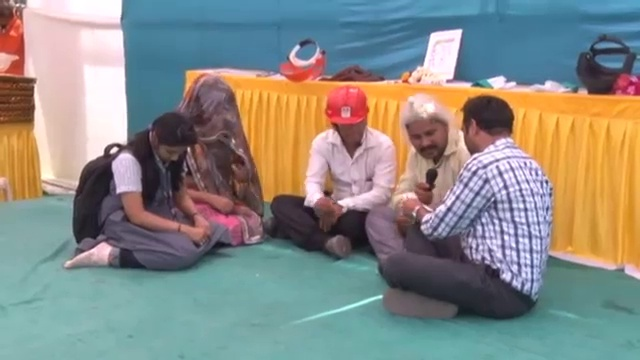helmet: (322, 86, 376, 125), (0, 48, 18, 77)
helmet_off: (456, 94, 519, 158), (182, 76, 241, 144), (399, 96, 454, 161), (142, 108, 197, 165), (0, 1, 19, 27)
helmet_on: (320, 87, 375, 151)
person: (379, 88, 555, 324), (64, 107, 218, 273), (264, 82, 410, 256), (361, 95, 474, 258), (175, 75, 263, 245), (0, 3, 28, 77)
